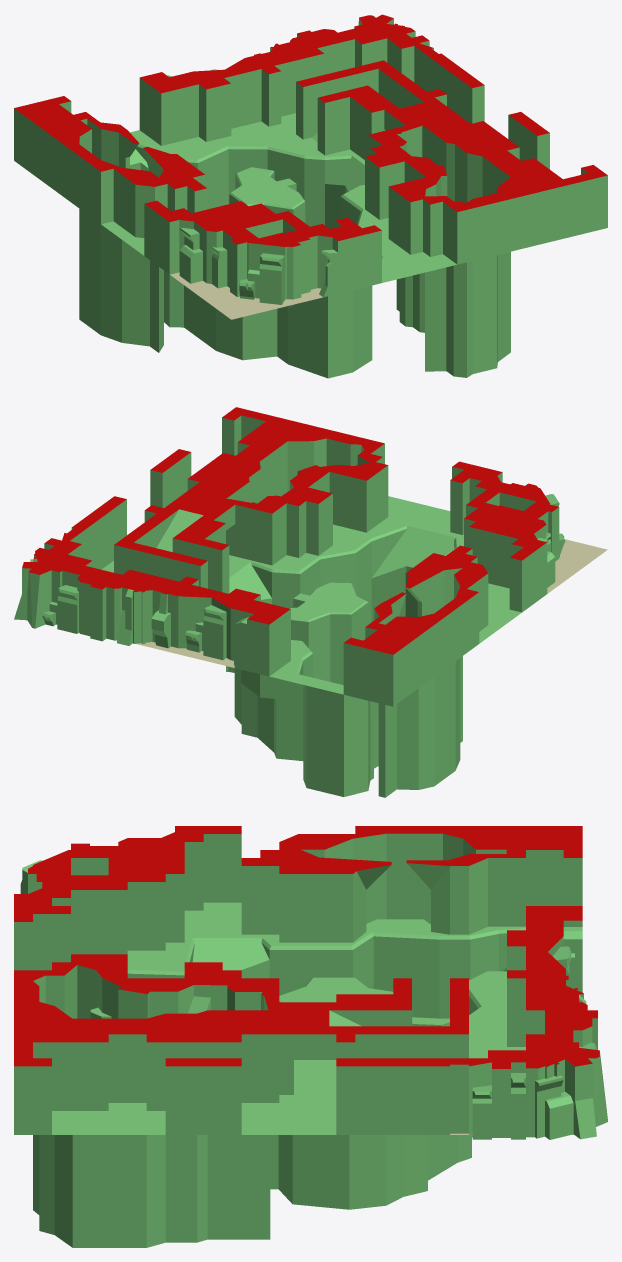
The model's file is x_oo_ground_60_ZM1_rmstrd_2.fbx.
3 renders of one model, top to bottom at view 1: azimuth 30°, elevation 25°; view 2: azimuth 150°, elevation 25°; view 3: azimuth 270°, elevation 25°, orthographic. The views are drawn at different scales.
Visible parts, largest first — view 1: x_oo_ground_60_ZM1_rmstrd_2_1; view 2: x_oo_ground_60_ZM1_rmstrd_2_1; view 3: x_oo_ground_60_ZM1_rmstrd_2_1.
Part boxes in pixels (x1=…): x_oo_ground_60_ZM1_rmstrd_2_1: x1=14, y1=14, x2=607, y2=378; x_oo_ground_60_ZM1_rmstrd_2_1: x1=14, y1=407, x2=607, y2=797; x_oo_ground_60_ZM1_rmstrd_2_1: x1=14, y1=826, x2=607, y2=1247.
Bounding box in the file's own units: 30.66 × 13.34 × 31.33.
